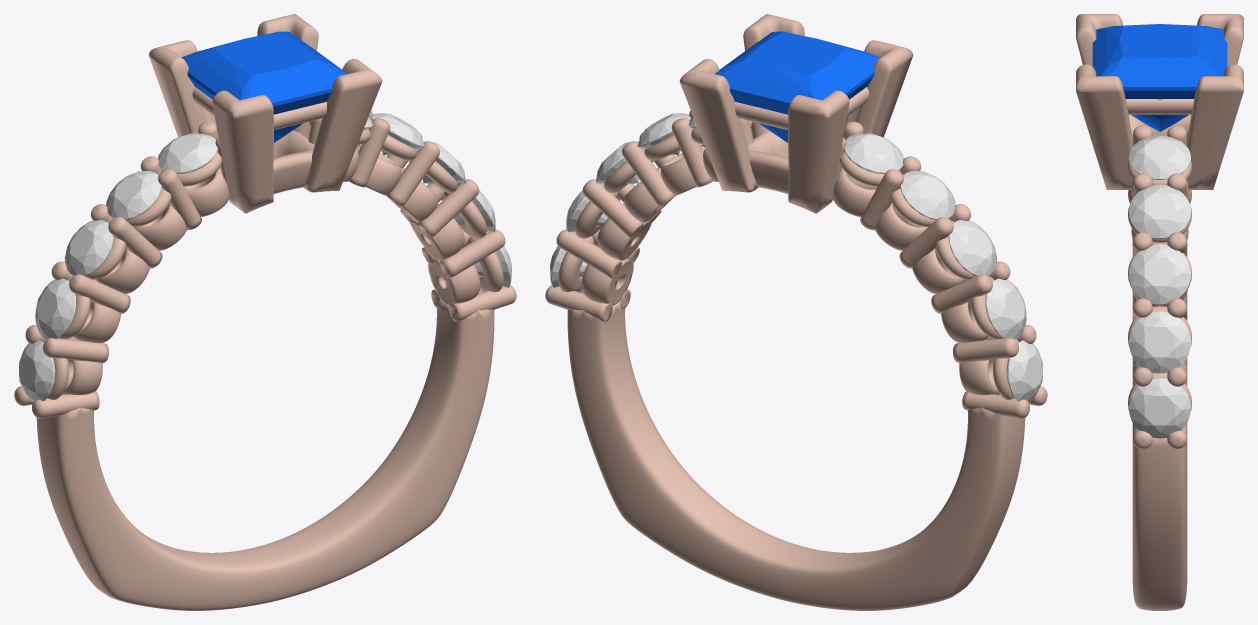
The model's file is bluesapphire-princess-rosegold-protectededges4prongs-europeanshank-11stone.glb.
The picture shows the model from 3 angles, left to right: view 1: azimuth 30°, elevation 25°; view 2: azimuth 150°, elevation 25°; view 3: azimuth 270°, elevation 25°; orthographic projection.
Visible parts, largest first — view 1: metal, stone, side.004, side.005, side.001, side.006, side, side.008; view 2: metal, stone, side.004, side.005, side.001, side.006, side, side.008; view 3: metal, stone, side.003, side.009, side.002, side.008, side.007.
Part boxes in pixels (x1,y1,x2,y2): metal: (14, 14, 516, 610); stone: (181, 31, 346, 142); side.004: (64, 220, 113, 275); side.005: (106, 171, 161, 219); side.001: (35, 278, 76, 339); side.006: (158, 133, 217, 173); side: (19, 340, 55, 402); side.008: (371, 113, 424, 155); metal: (545, 14, 1047, 610); stone: (715, 31, 880, 142); side.004: (948, 220, 997, 275); side.005: (900, 171, 955, 219); side.001: (985, 278, 1026, 339); side.006: (844, 133, 903, 173); side: (1006, 340, 1042, 402); side.008: (637, 113, 690, 155); metal: (1076, 14, 1243, 610); stone: (1092, 24, 1227, 131); side.003: (1129, 311, 1190, 373); side.009: (1129, 244, 1190, 304); side.002: (1129, 378, 1190, 438); side.008: (1129, 184, 1190, 238); side.007: (1129, 135, 1190, 179).
Bounding box in the file's own units: 22 × 23.65 × 6.77.
